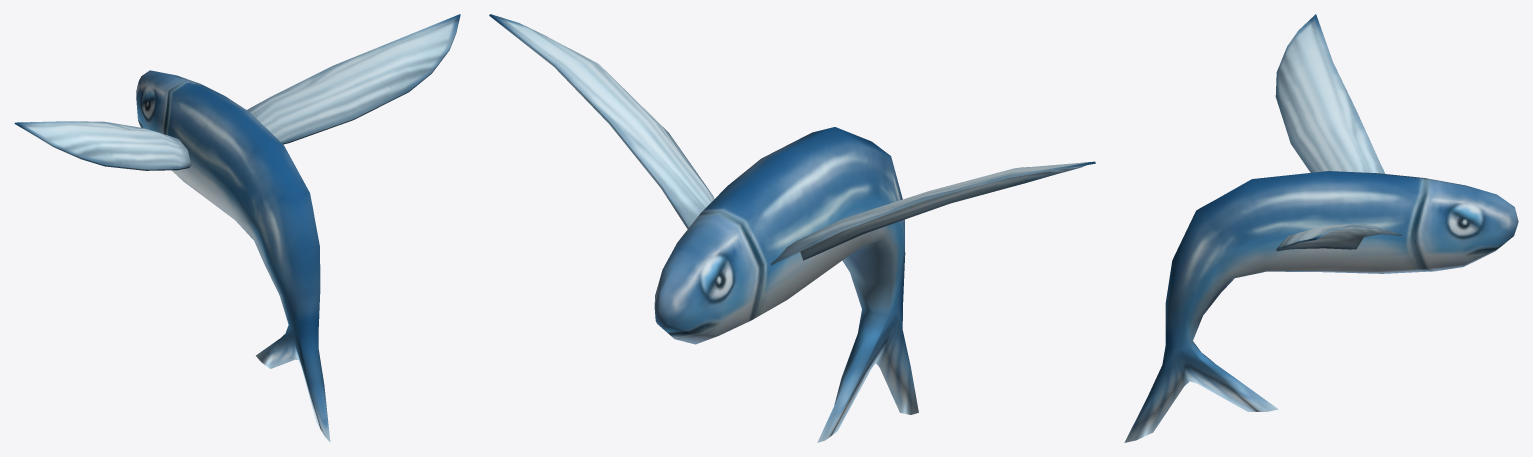
Rendered from flying_fish.FBX.
3 renders of one model, left to right at view 1: azimuth 30°, elevation 25°; view 2: azimuth 150°, elevation 25°; view 3: azimuth 270°, elevation 25°, orthographic. The views are drawn at different scales.
Parts seen in each view (by area): view 1: Flying_fish; view 2: Flying_fish; view 3: Flying_fish.
Boxes of the visible parts, box(x1,y1,x2,y2) form: Flying_fish: box(14, 14, 460, 442); Flying_fish: box(489, 14, 1095, 442); Flying_fish: box(1124, 14, 1518, 442).
Size of the model in its own units: 112 by 73.45 by 82.84.
Materials: 1 (1 with a texture image).
